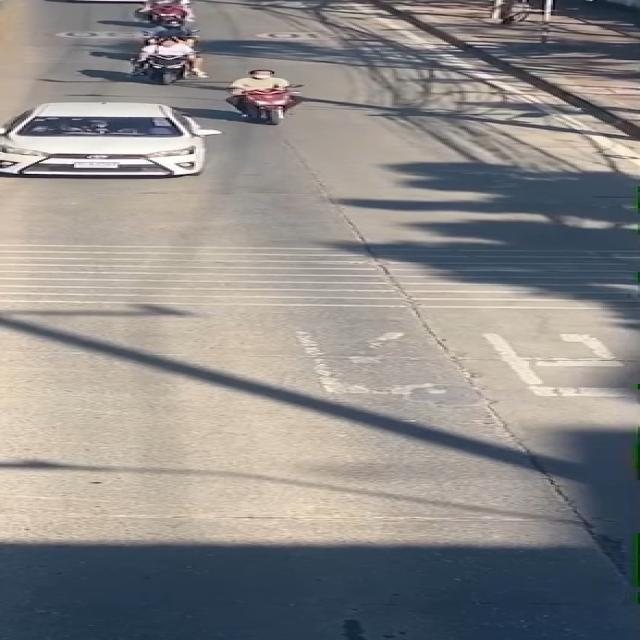car: (0, 91, 226, 193)
